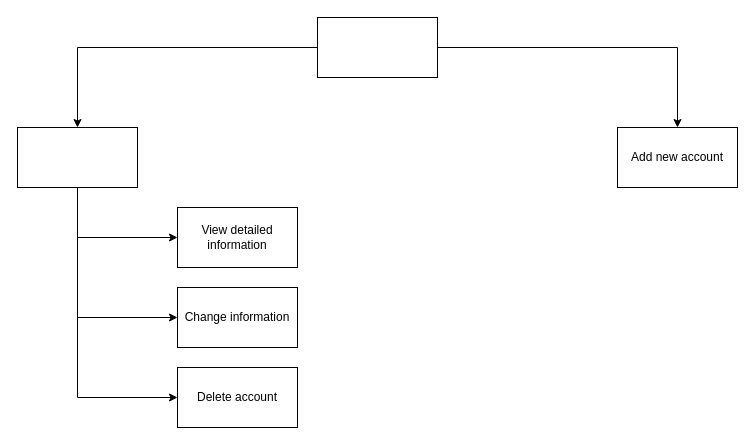
Image size: 755x445. Some labels were removed from this diagram. Each missing label, with the centre of its shape:
Login: (x=377, y=47)
View list of accounts: (x=77, y=157)
